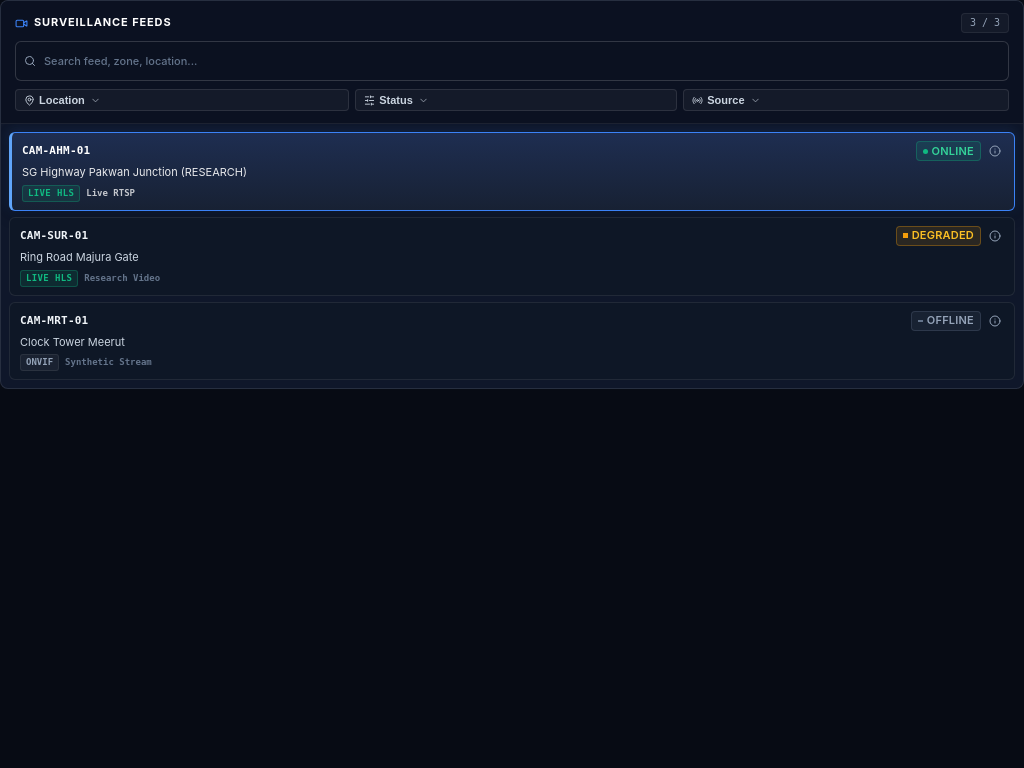
Test case: Live CCTV Monitoring Page & Components › Compact Camera Cards & Information Popover (Part 1) › toggles popover when clicking the same info button and switches smoothly between cameras
The image size is (1024, 768).
# Open Camera A popover
Click the button with test id "camera-info-btn-CAM-AHM-01: SG Highway Pakwan Junction (RESEARCH)".
click(995, 151)  # box [986,143,1004,159]
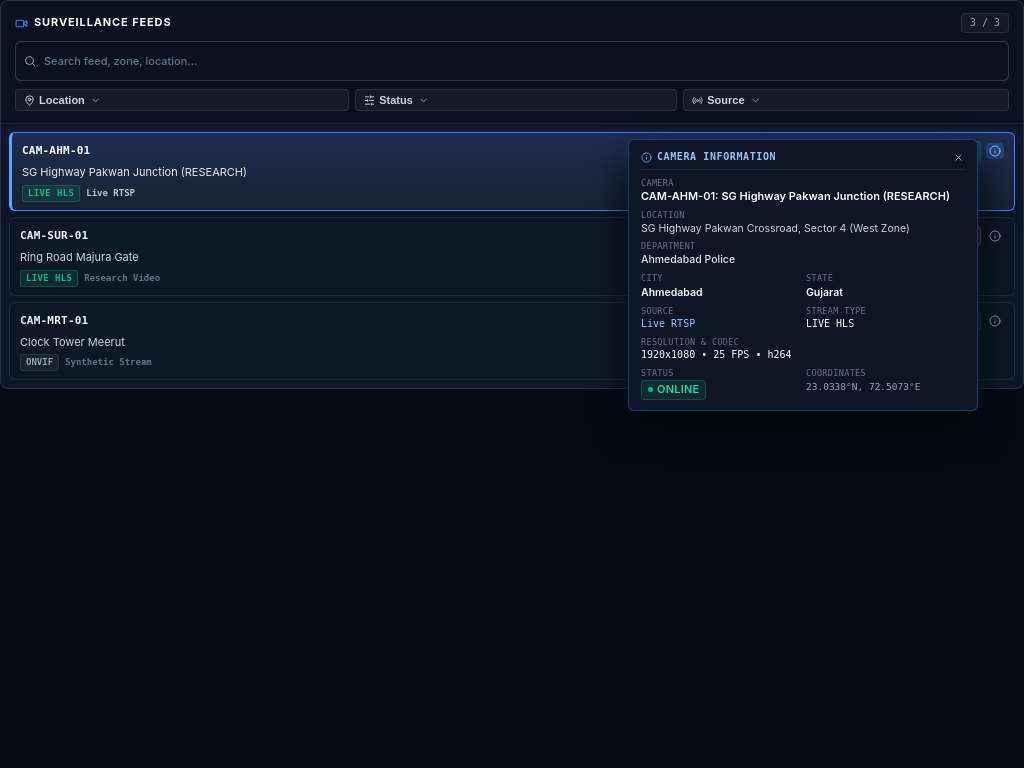
Expected: the dialog with test id "camera-info-popover-CAM-AHM-01: SG Highway Pakwan Junction (RESEARCH)" is shown, [628,139,978,410]
# Click same button to toggle close
Click the button with test id "camera-info-btn-CAM-AHM-01: SG Highway Pakwan Junction (RESEARCH)".
click(995, 151)  # box [986,143,1004,159]
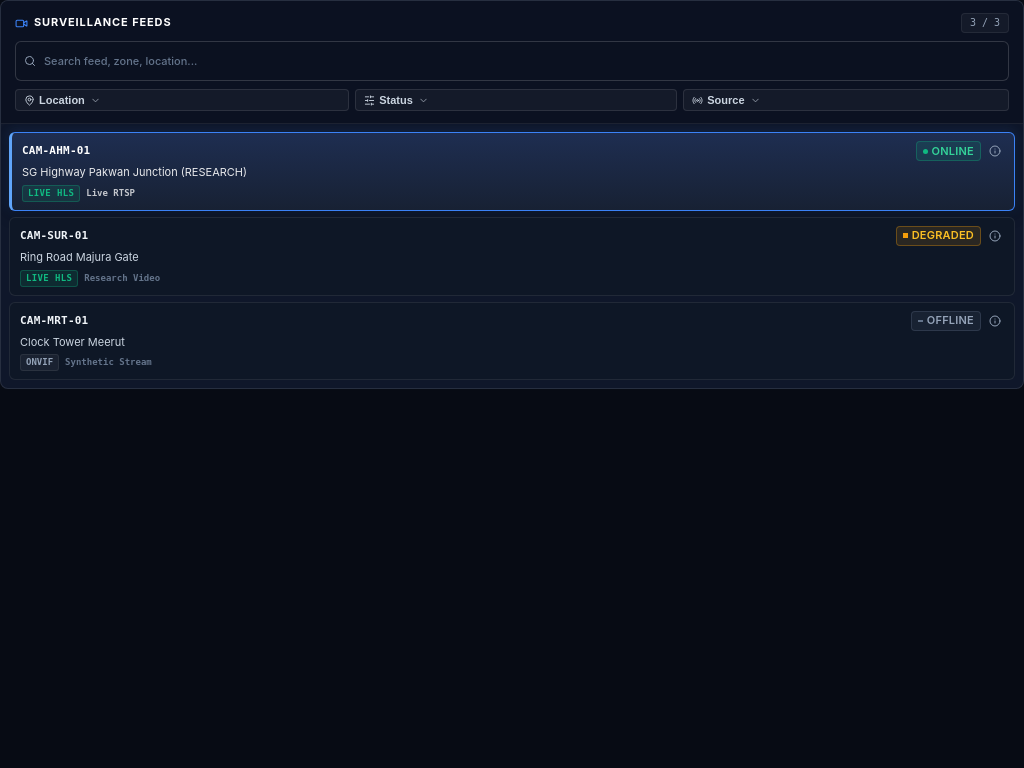
# Open Camera A again
Click the button with test id "camera-info-btn-CAM-AHM-01: SG Highway Pakwan Junction (RESEARCH)".
click(995, 151)  # box [986,143,1004,159]
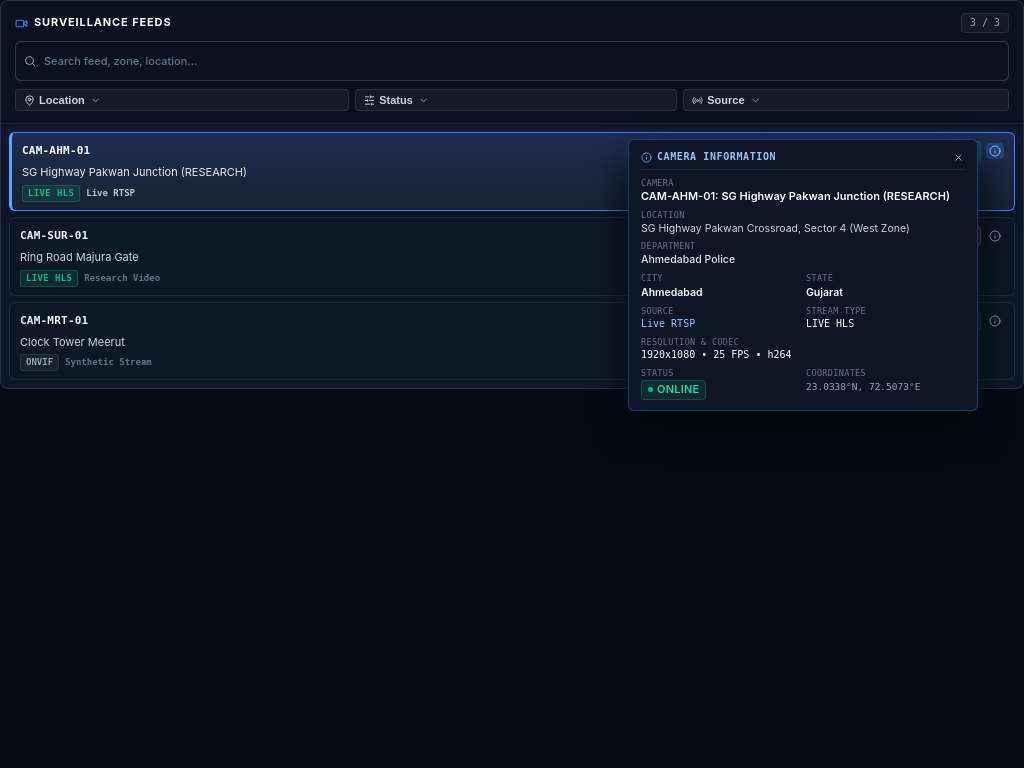
Expected: the dialog with test id "camera-info-popover-CAM-AHM-01: SG Highway Pakwan Junction (RESEARCH)" is shown, [628,139,978,410]
# Click Camera B info button: must switch to Camera B immediately without stale Camera A popover
Click the button with test id "camera-info-btn-CAM-SUR-01: Ring Road Majura Gate".
click(995, 236)  # box [986,228,1004,244]
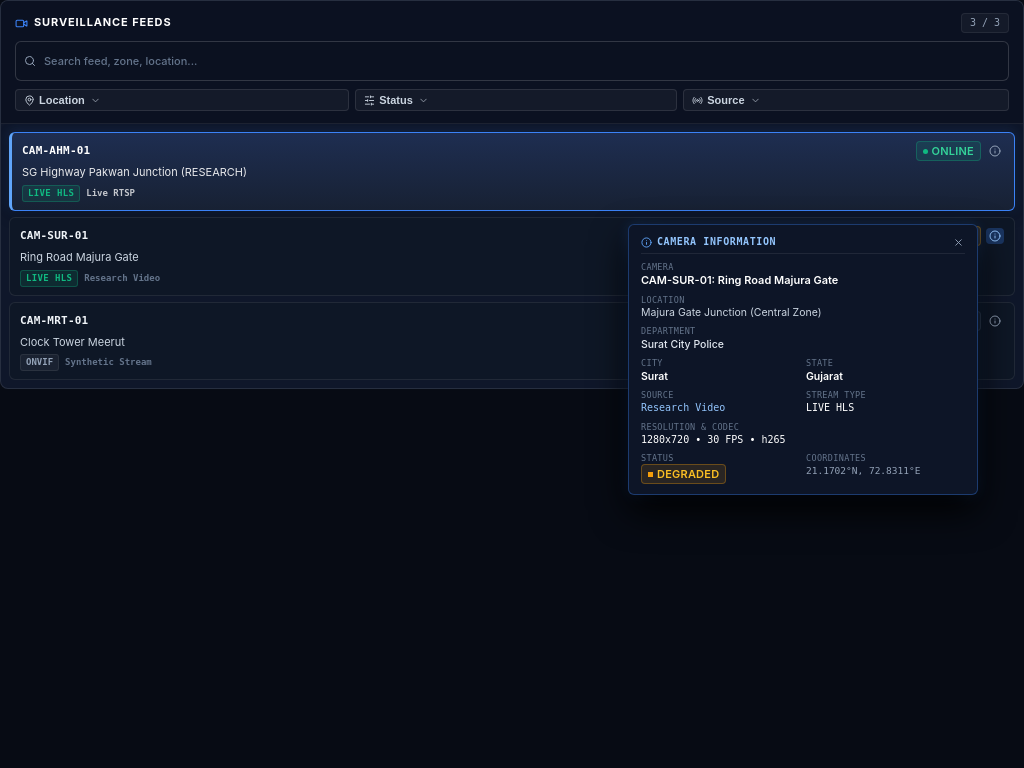
Expected: the dialog with test id "camera-info-popover-CAM-SUR-01: Ring Road Majura Gate" is shown, [628,224,978,495]
Expected: the text "Surat City Police" is shown, [641,338,724,351]
